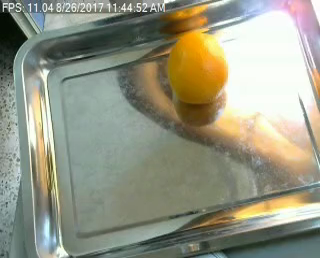Orange: (166, 31, 228, 104)
